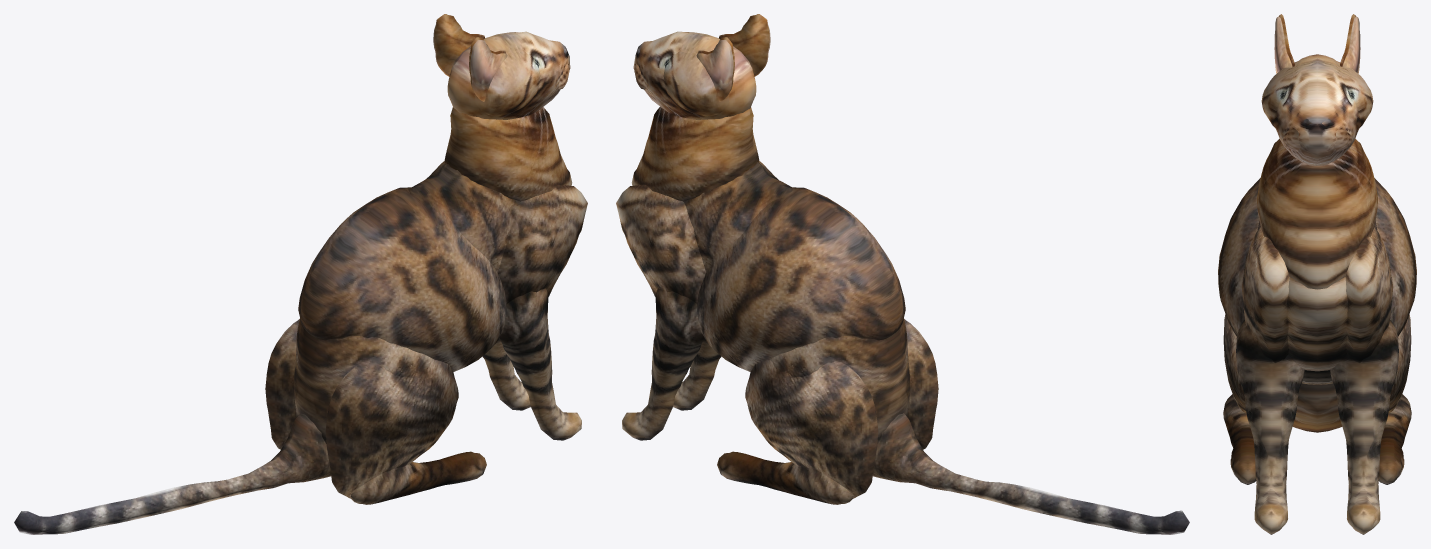
The model's file is cat_sitting.glb.
3 views of the same model, side by side, from view 1: azimuth 30°, elevation 25°; view 2: azimuth 150°, elevation 25°; view 3: azimuth 270°, elevation 25° (orthographic). The views are drawn at different scales.
Visible parts, largest first — view 1: Object_2; view 2: Object_2; view 3: Object_2.
Part boxes in pixels (x1=…): Object_2: x1=14, y1=14, x2=587, y2=534; Object_2: x1=616, y1=14, x2=1189, y2=534; Object_2: x1=1218, y1=14, x2=1416, y2=534.
Size of the model in its own units: 158 by 116 by 43.5.
Materials: 1 (1 with a texture image).
